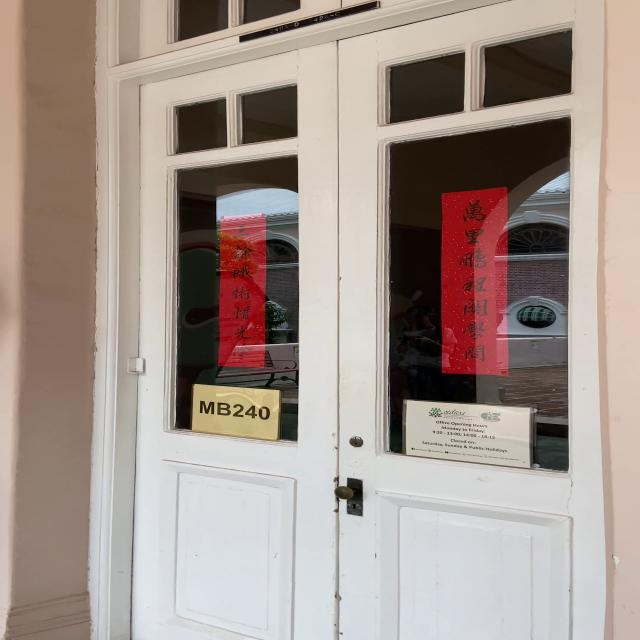room240: (194, 388, 279, 434)
